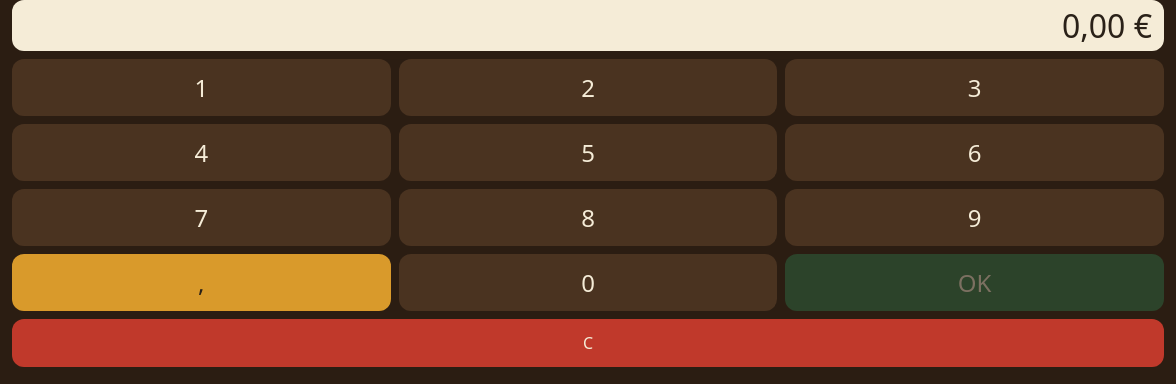
Scenario: Numpad › clears the display via C
The width and height of the screenshot is (1176, 384).
Click the button "4": point(201, 152) [12,124,391,181]
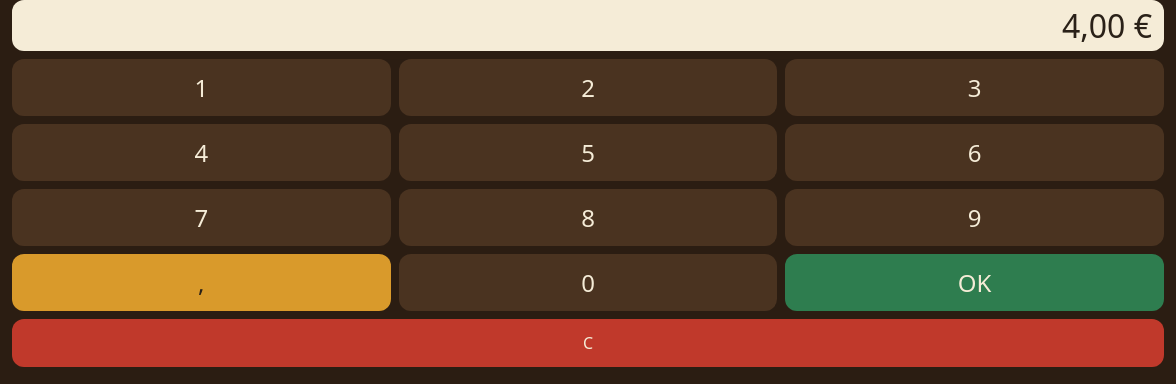
Click the button "5": point(588, 152) [399,124,777,181]
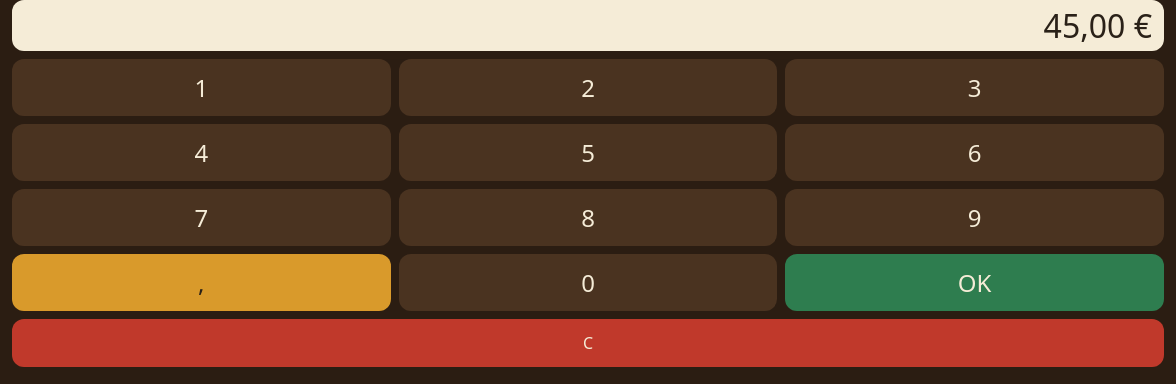
Expected: the text "45,00 €" is shown, [12,0,1164,51]
Click the button "C": point(588, 343) [12,319,1164,367]
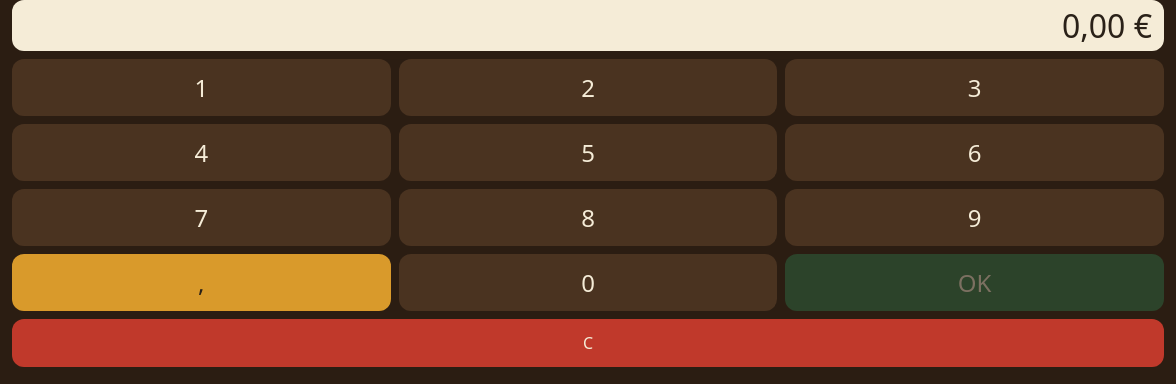
Expected: the text "0,00 €" is shown, [12,0,1164,51]
